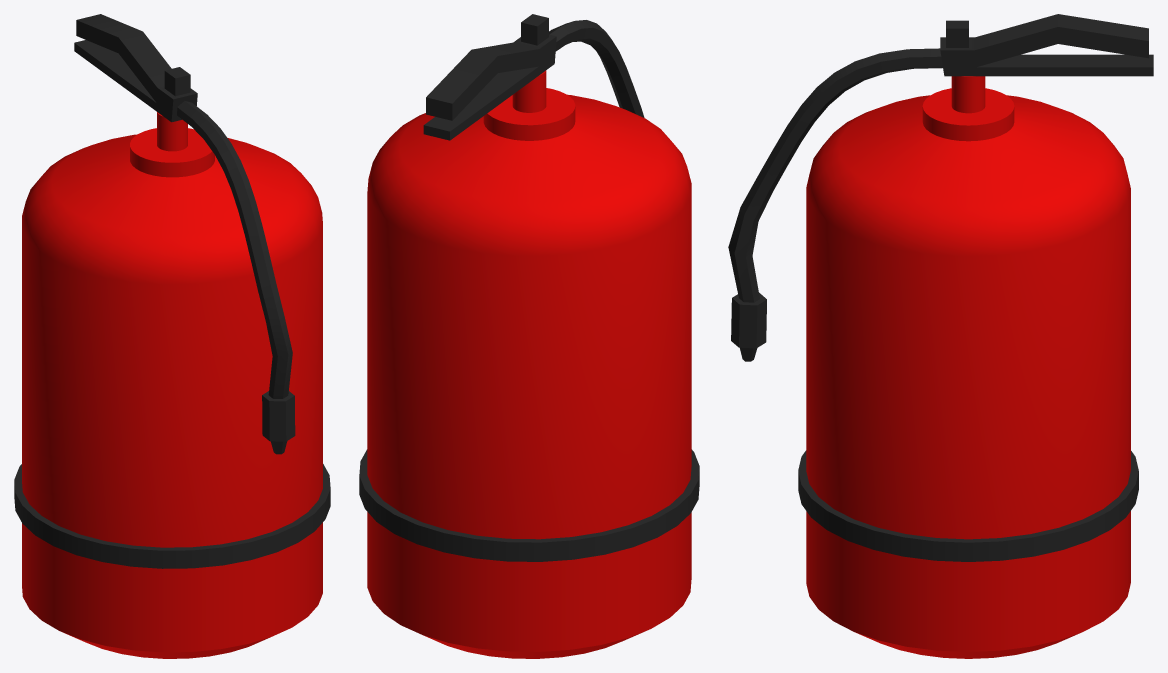
The model's file is FireExt.fbx.
The picture shows the model from 3 angles, left to right: view 1: azimuth 30°, elevation 25°; view 2: azimuth 150°, elevation 25°; view 3: azimuth 270°, elevation 25°; orthographic projection. The views are drawn at different scales.
Visible parts, largest first — view 1: Cylinder, Cube; view 2: Cylinder, Cube; view 3: Cylinder, Cube.
Part boxes in pixels (bbox=[...]): Cylinder: bbox=[14, 112, 330, 658]; Cube: bbox=[74, 14, 295, 454]; Cylinder: bbox=[359, 70, 699, 658]; Cube: bbox=[423, 14, 644, 140]; Cylinder: bbox=[798, 76, 1138, 658]; Cube: bbox=[728, 14, 1153, 361].
Bounding box in the file's own units: 79.77 × 151 × 99.57.
